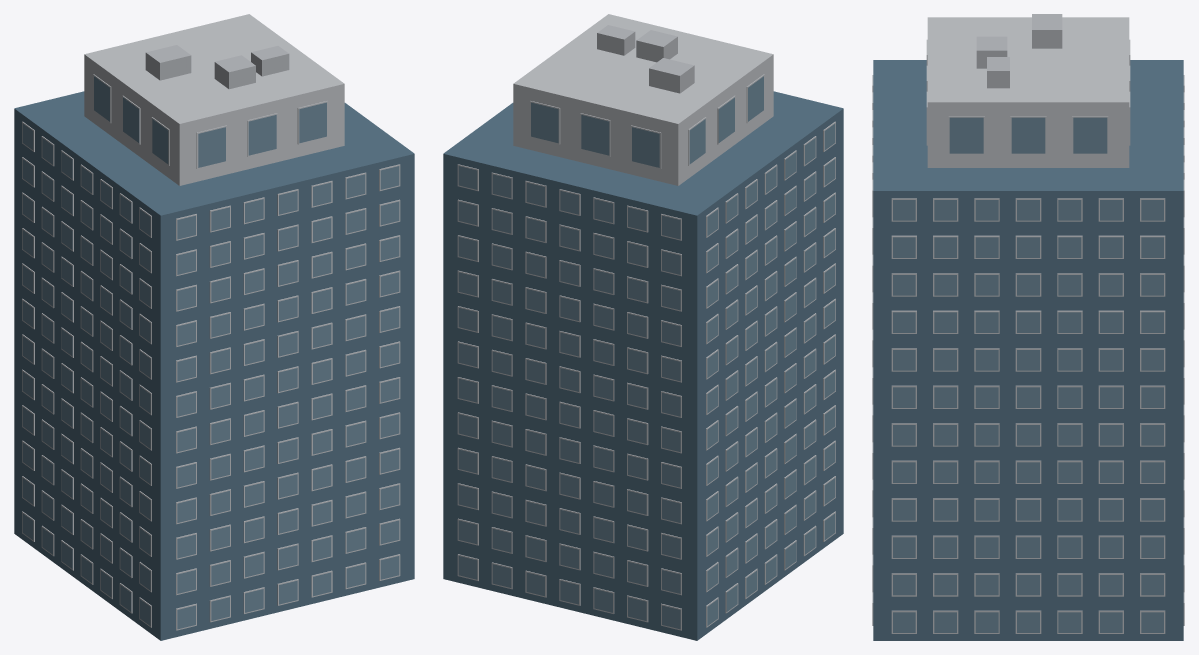
The model's file is office.glb.
The picture shows the model from 3 angles, left to right: view 1: azimuth 30°, elevation 25°; view 2: azimuth 150°, elevation 25°; view 3: azimuth 270°, elevation 25°; orthographic projection. The views are drawn at different scales.
Parts seen in each view (by area): view 1: Cube, Cube.002, Cube.001, Cube.673, Cube.698; view 2: Cube, Cube.002, Cube.001, Cube.673, Cube.698; view 3: Cube, Cube.002, Cube.673, Cube.001, Cube.698.
Part boxes in pixels (box(x1,y1,x2,y2)): Cube: box(14, 91, 414, 640); Cube.002: box(22, 76, 399, 629); Cube.001: box(22, 74, 400, 630); Cube.673: box(84, 14, 344, 185); Cube.698: box(145, 45, 289, 89); Cube: box(443, 91, 843, 640); Cube.002: box(458, 76, 835, 629); Cube.001: box(457, 74, 835, 630); Cube.673: box(513, 14, 773, 185); Cube.698: box(597, 25, 694, 93); Cube: box(873, 60, 1183, 640); Cube.002: box(893, 117, 1163, 632); Cube.673: box(927, 17, 1129, 167); Cube.001: box(872, 39, 1184, 633); Cube.698: box(976, 14, 1062, 88).
Size of the model in its own units: 30.2 by 56.99 by 30.2.
